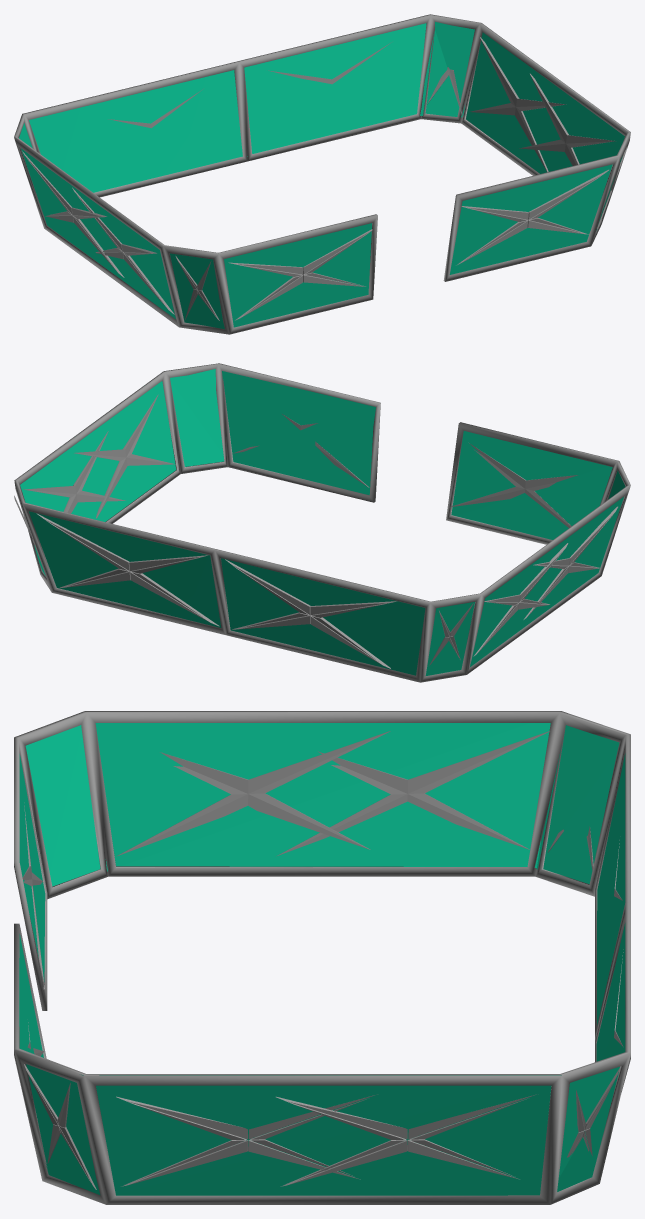
File: MOD_ChuckyFence.FBX
3 views of the same model, one above another, from view 1: azimuth 30°, elevation 25°; view 2: azimuth 150°, elevation 25°; view 3: azimuth 270°, elevation 25° (orthographic). The views are drawn at different scales.
Visible parts, largest first — view 1: MOD_ChuckyFence; view 2: MOD_ChuckyFence; view 3: MOD_ChuckyFence.
Boxes of the visible parts, bbox=[...] form: MOD_ChuckyFence: bbox=[14, 14, 630, 334]; MOD_ChuckyFence: bbox=[14, 363, 630, 682]; MOD_ChuckyFence: bbox=[14, 711, 630, 1204].
Size of the model in its own units: 3278 by 616 by 2344.
